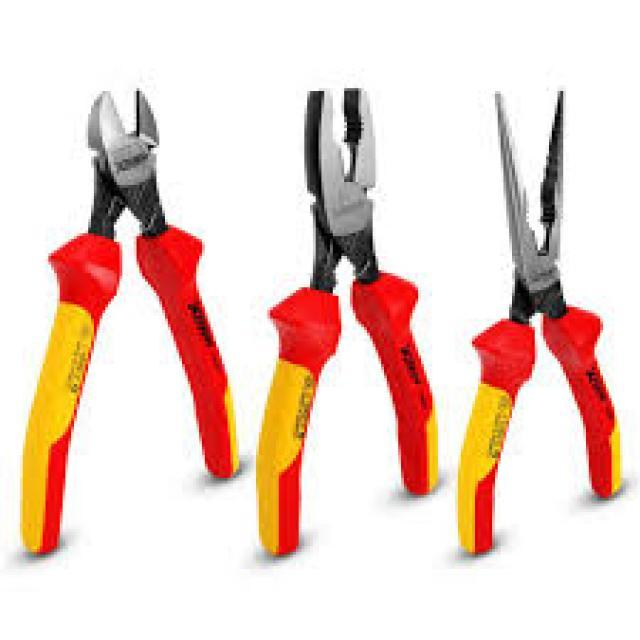pliers: (16, 79, 245, 558), (250, 82, 446, 564), (454, 83, 626, 562)
